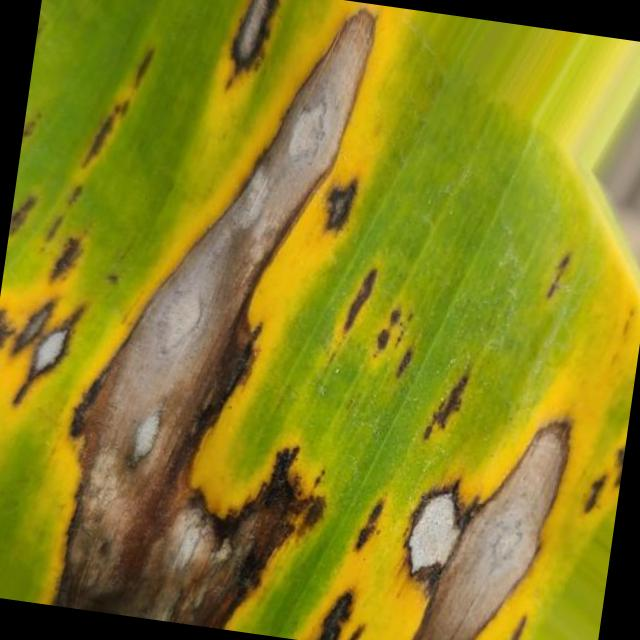Banana_Yellow_Sigatoka: (0, 242, 596, 640), (201, 0, 392, 219)
